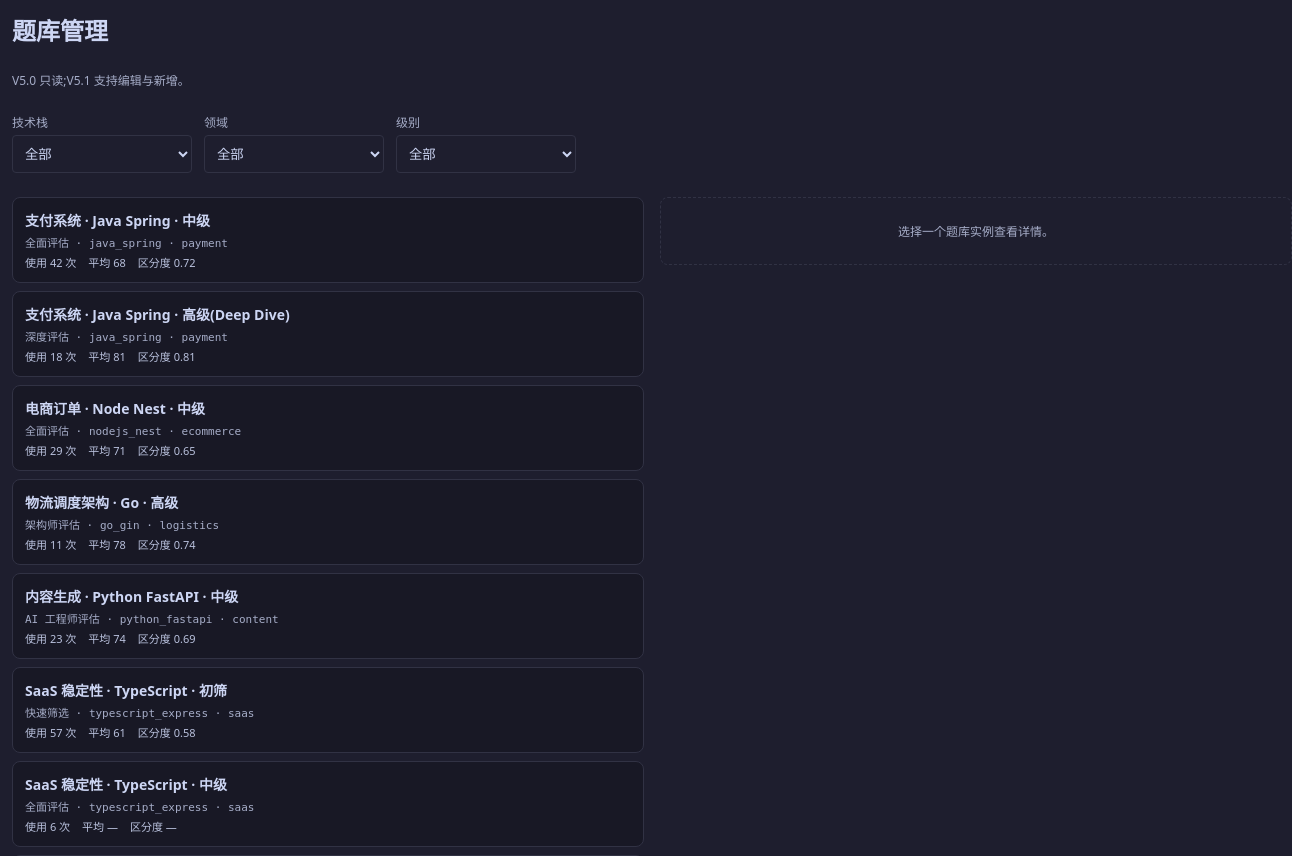
Scenario: <AdminExamLibraryPage /> › filters by level
Select "高级" in the dropdown with test id "admin-exam-filter-level". click: [486, 154]
box: [396,135,576,173]
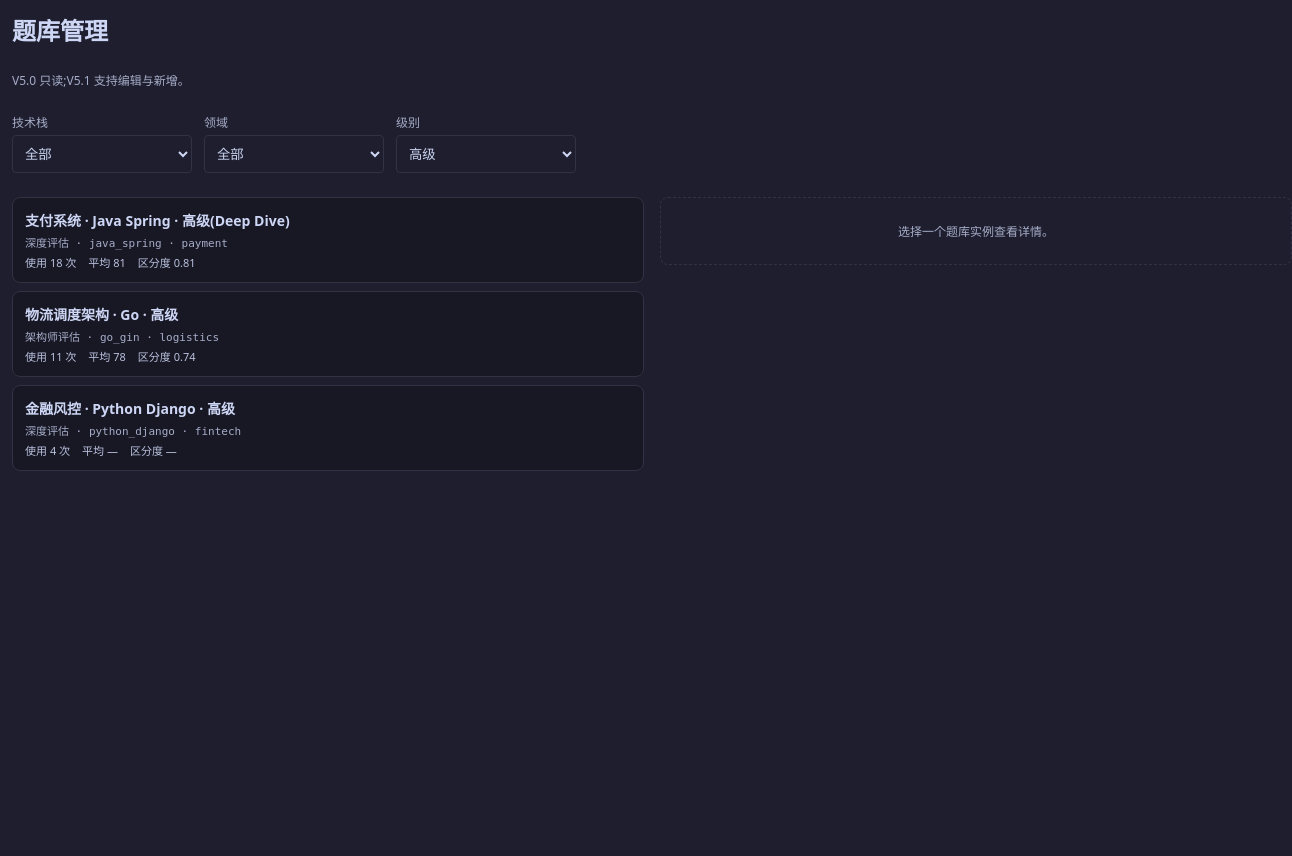
Check: the button with test id "admin-exam-row-exam-go-logistics-senior" is shown, box [12,291,644,377]
Check: the button with test id "admin-exam-row-exam-java-payment-mid" is gone
